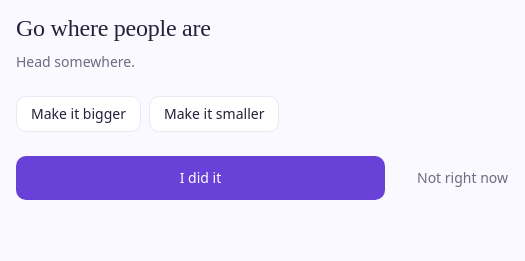
Test case: TinyActionFlow › shows an error message and lets the student keep trying if logging fails
This screenshot has width=525, height=261.
Click the button "I did it". click: point(200, 178)
box: [16,156,385,200]
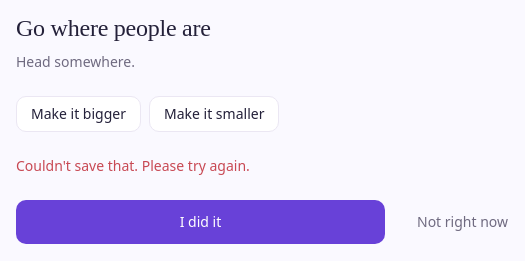
Check: the heading "Go where people are" is shown, box [16,15,211,41]
Check: the message shows "Couldn't save that", box [16,156,250,175]
